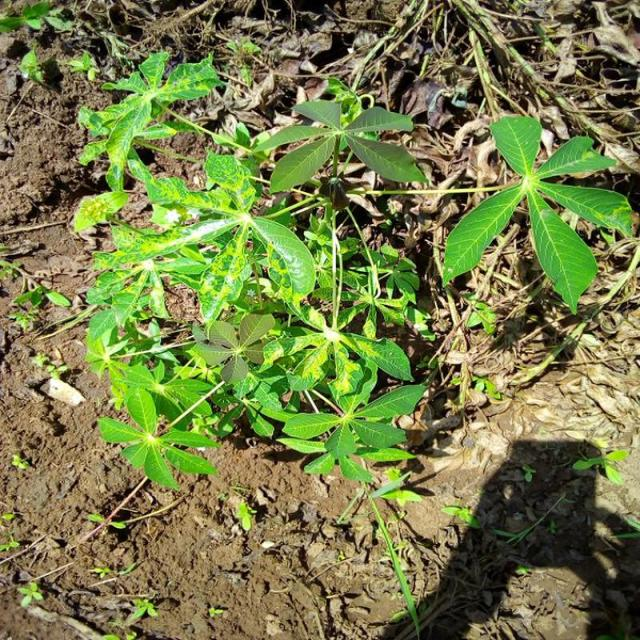cassava leaf: (441, 113, 632, 316)
